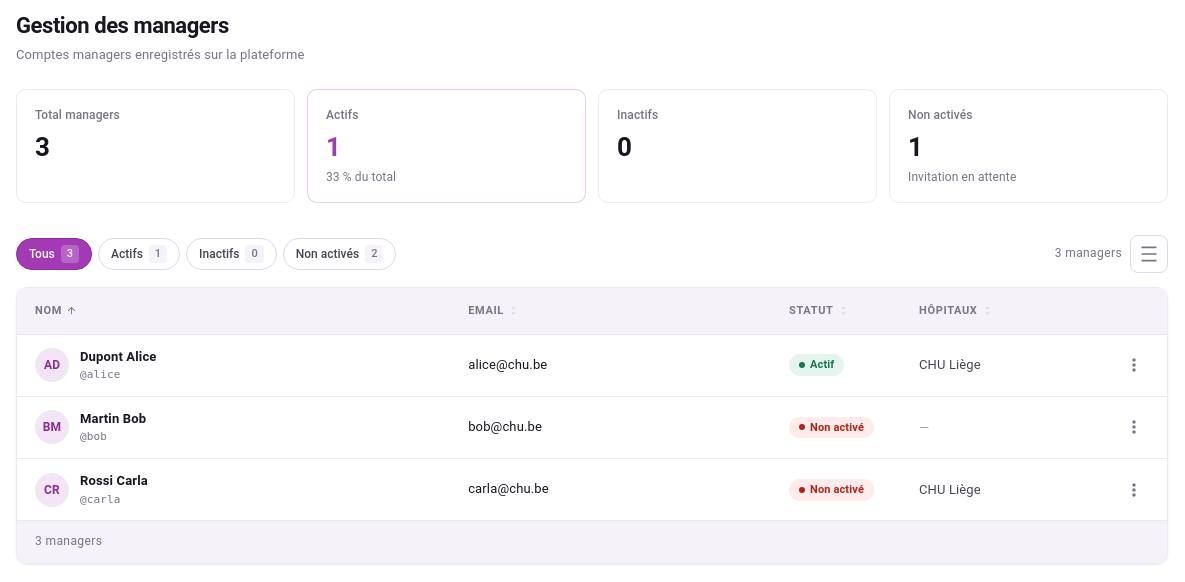
Scenario: AdminManagersPage › filter chip 'Actifs' n'affiche que Alice
Expected: the text "Dupont Alice" is shown, [80,348,156,366]
What coordinates should you click on to do the following:
click the button "Actifs 1"
I would click on:
 (139, 254)
Its box is [98,238,180,270].
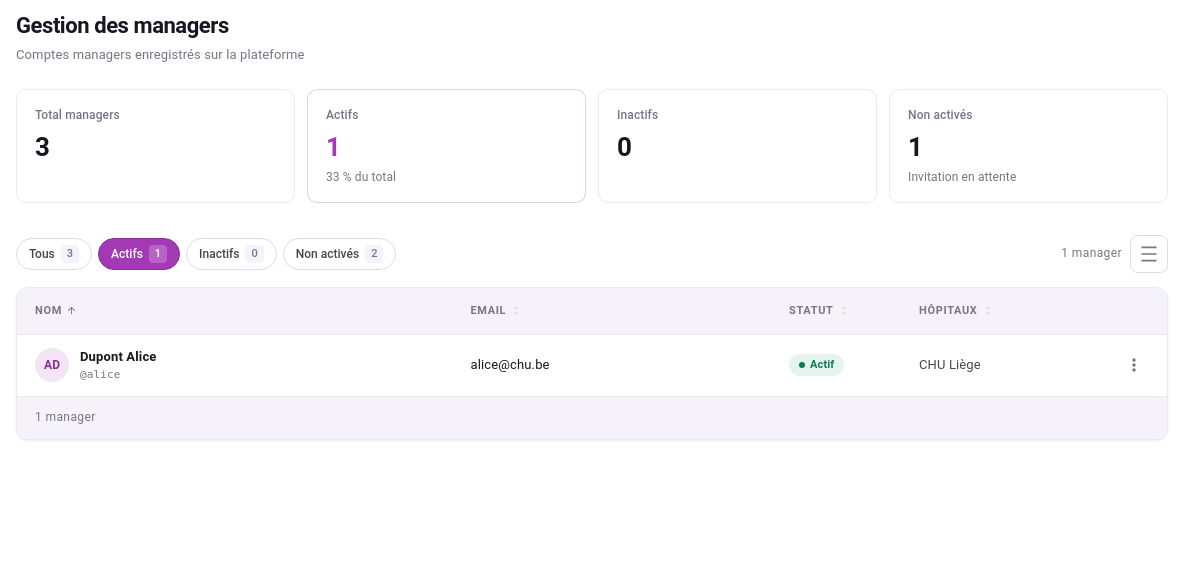
Expected: the text "Dupont Alice" is shown, [80,348,156,366]
Result: the text "Martin Bob" is gone
Result: the text "Rossi Carla" is gone
